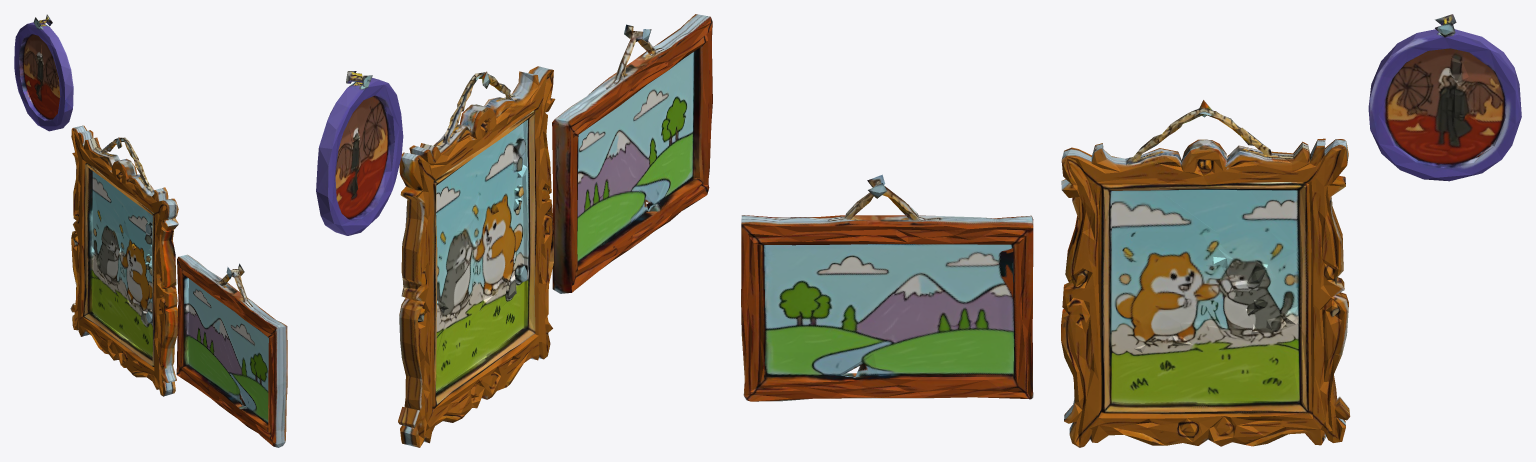
Rendered from picture+frame+3d+model.fbx.
3 renders of one model, left to right at view 1: azimuth 30°, elevation 25°; view 2: azimuth 150°, elevation 25°; view 3: azimuth 270°, elevation 25°, orthographic. The views are drawn at different scales.
Parts seen in each view (by area): view 1: tripo_node_b7848f27; view 2: tripo_node_b7848f27; view 3: tripo_node_b7848f27.
Part boxes in pixels (bbox=[...]): tripo_node_b7848f27: bbox=[14, 14, 287, 447]; tripo_node_b7848f27: bbox=[316, 14, 712, 447]; tripo_node_b7848f27: bbox=[741, 14, 1521, 447].
Size of the model in its own units: 0.0352 by 0.6025 by 1.
1 material, 1 textured.
